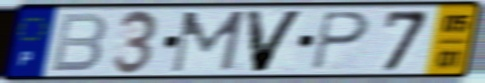3: (110, 7, 162, 77)
7: (381, 9, 431, 74)
B: (48, 11, 110, 74)
M: (167, 8, 248, 75)
P: (310, 10, 372, 73)
V: (242, 9, 308, 75)
